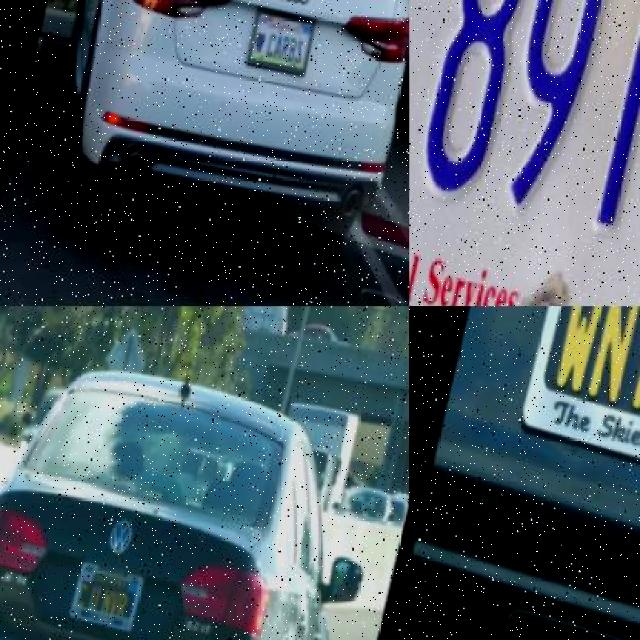licenseplate: (409, 0, 640, 292), (507, 306, 640, 509), (68, 557, 146, 632), (244, 8, 316, 80)
